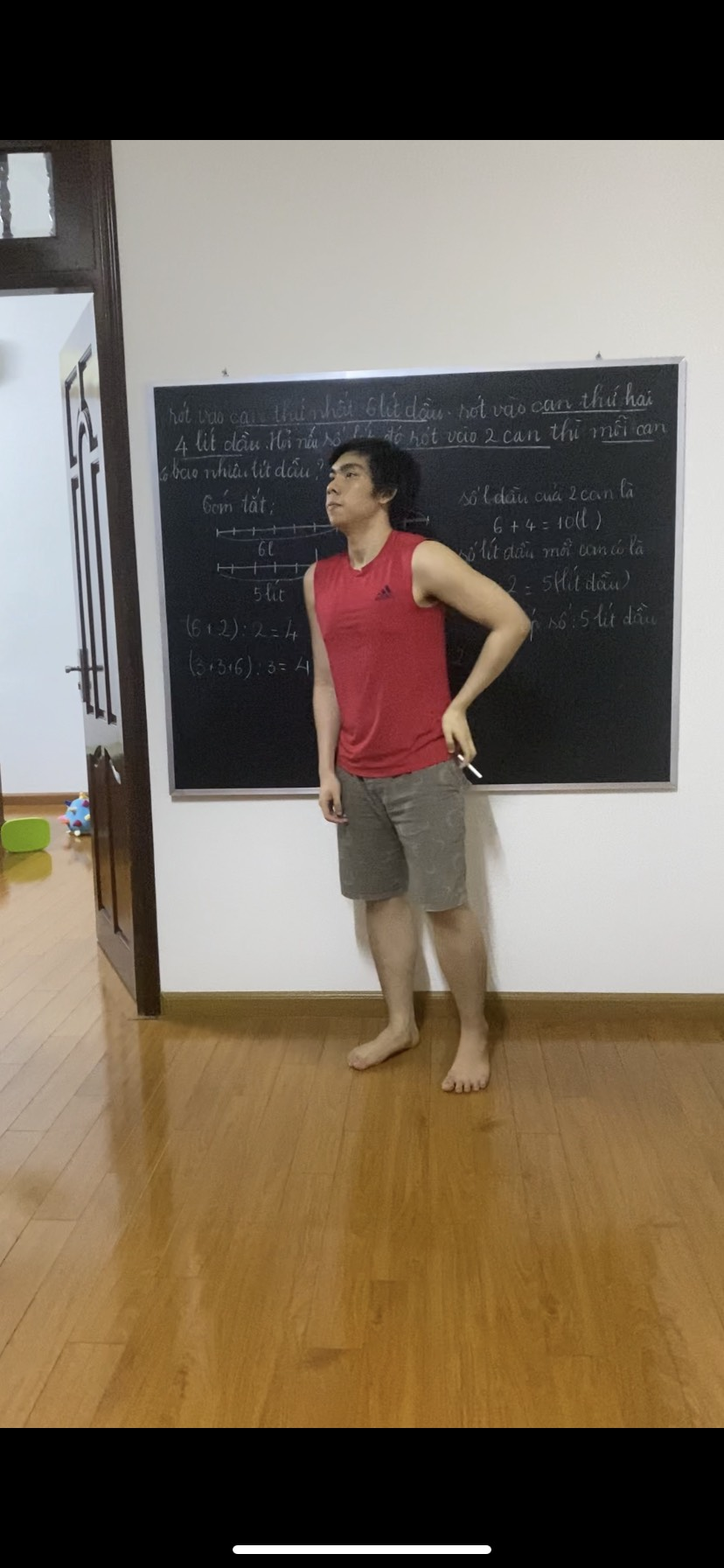cigarette: (467, 761, 484, 781)
person: (303, 424, 526, 1111)
